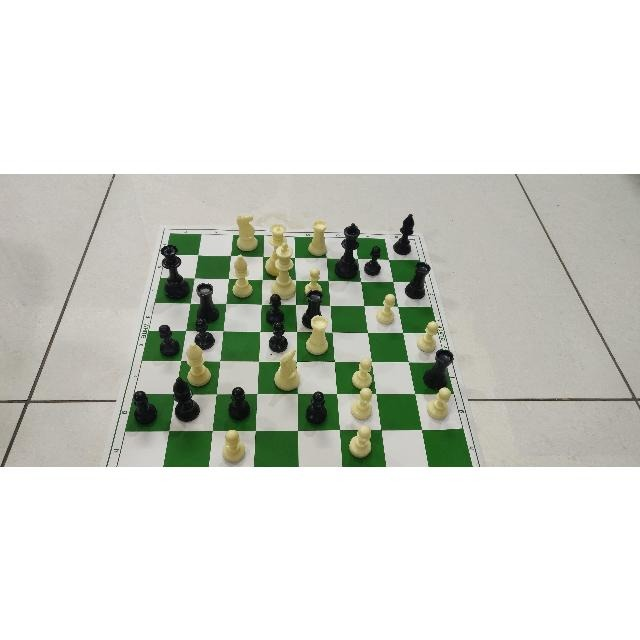black-bishop: (170, 376, 204, 424), (391, 210, 416, 257)
black-king: (334, 223, 359, 279)
black-pawn: (128, 391, 158, 423), (226, 386, 252, 420), (157, 320, 182, 353), (307, 388, 329, 424), (266, 291, 286, 320), (268, 323, 292, 347), (191, 319, 217, 340), (369, 244, 380, 272)
black-queen: (158, 245, 189, 299)
black-rook: (424, 349, 454, 389), (194, 283, 219, 323), (405, 262, 431, 298), (301, 288, 324, 327)
white-bishop: (183, 342, 211, 386), (230, 254, 253, 298)
white-king: (268, 242, 297, 300)
white-knight: (274, 347, 300, 390), (234, 215, 258, 250)
white-pawn: (427, 385, 455, 421), (348, 386, 374, 422), (350, 423, 376, 454), (222, 429, 246, 461), (350, 354, 373, 386), (375, 292, 395, 326), (421, 319, 441, 345), (305, 266, 324, 285)
white-queen: (265, 222, 289, 276)
white-rook: (306, 314, 328, 354), (308, 220, 328, 255)
